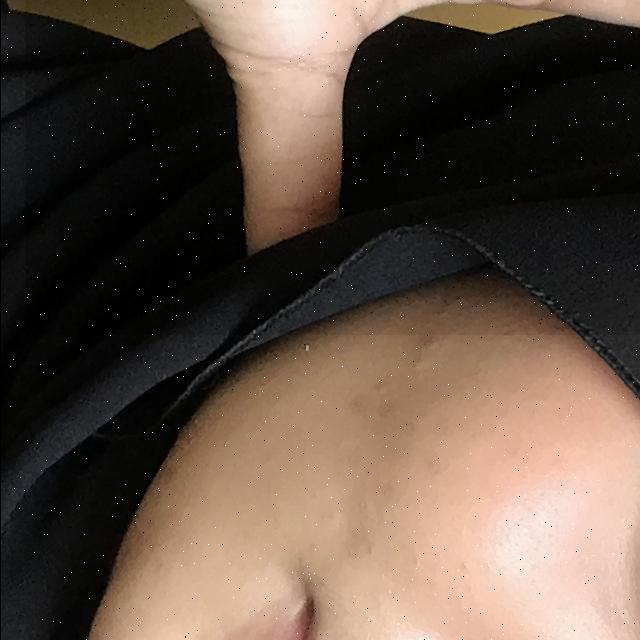mendengar: (24, 0, 640, 335)
